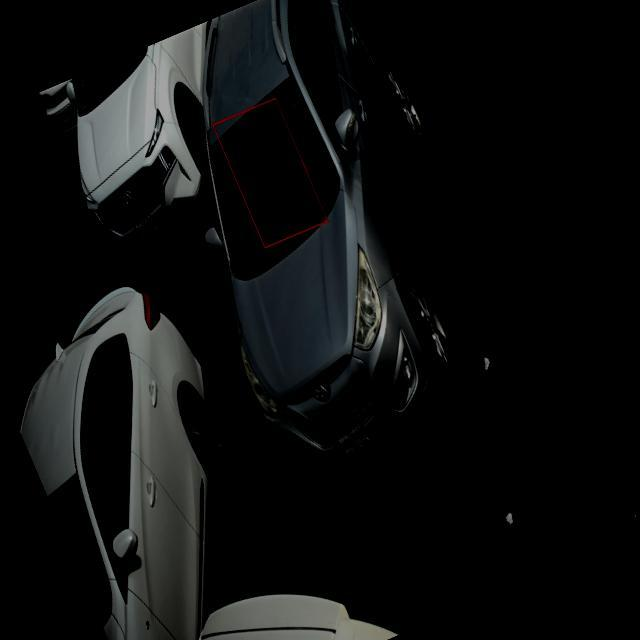windshield: (200, 66, 344, 288)
